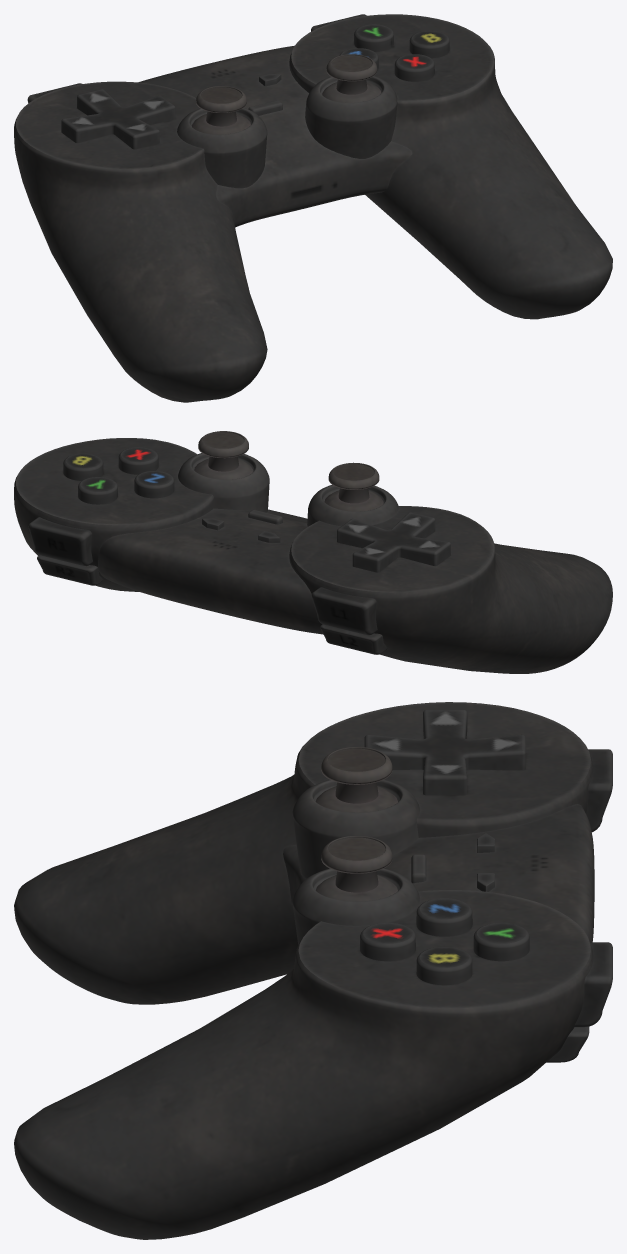
File: SM_Joystick_01.fbx
The picture shows the model from 3 angles, top to bottom: view 1: azimuth 30°, elevation 25°; view 2: azimuth 150°, elevation 25°; view 3: azimuth 270°, elevation 25°; orthographic projection. The views are drawn at different scales.
Parts seen in each view (by area): view 1: SM_Joystick_01_LOD0; view 2: SM_Joystick_01_LOD0; view 3: SM_Joystick_01_LOD0.
Boxes of the visible parts, x1,y1,x2,y2 form: SM_Joystick_01_LOD0: (14,14,612,402); SM_Joystick_01_LOD0: (14,431,612,673); SM_Joystick_01_LOD0: (14,702,612,1239).
Size of the model in its own units: 16.5 by 13.06 by 7.41.
1 material, 1 textured.
